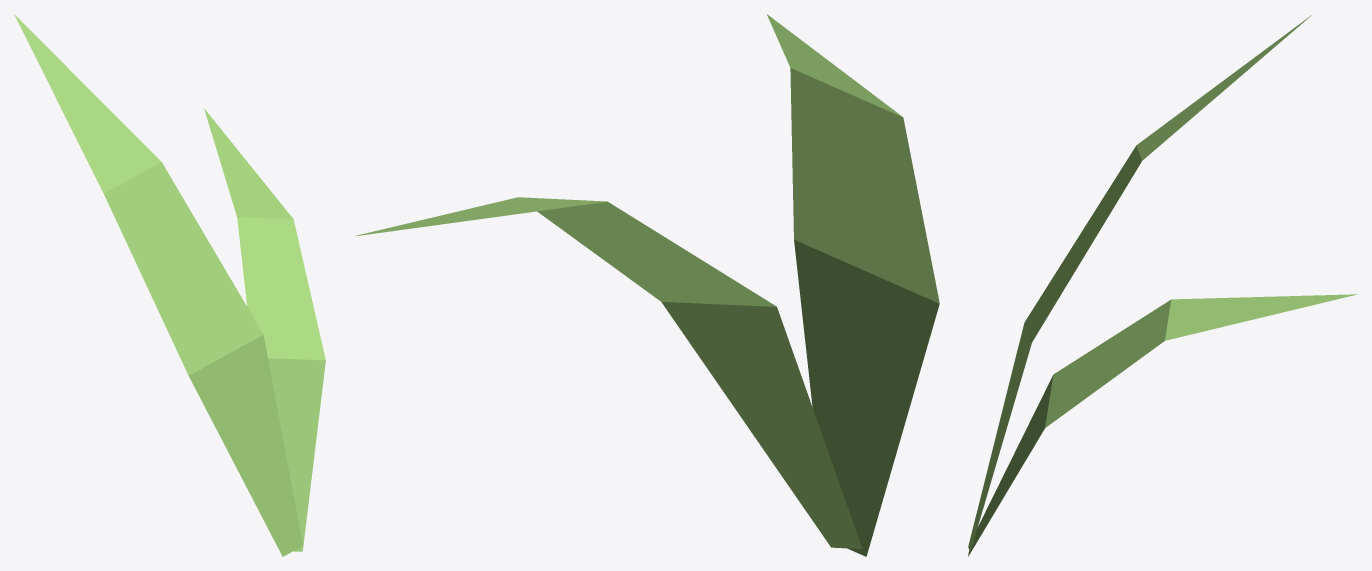
File: Plant_e_TwoS_02.fbx
3 renders of one model, left to right at view 1: azimuth 30°, elevation 25°; view 2: azimuth 150°, elevation 25°; view 3: azimuth 270°, elevation 25°, orthographic. The views are drawn at different scales.
Visible parts, largest first — view 1: Plant_e_TwoS_02; view 2: Plant_e_TwoS_02; view 3: Plant_e_TwoS_02.
Part boxes in pixels (x1,y1,x2,y2): Plant_e_TwoS_02: [14, 14, 325, 556]; Plant_e_TwoS_02: [355, 14, 939, 556]; Plant_e_TwoS_02: [968, 15, 1357, 556].
Size of the model in its own units: 0.2615 by 0.533 by 0.394.
